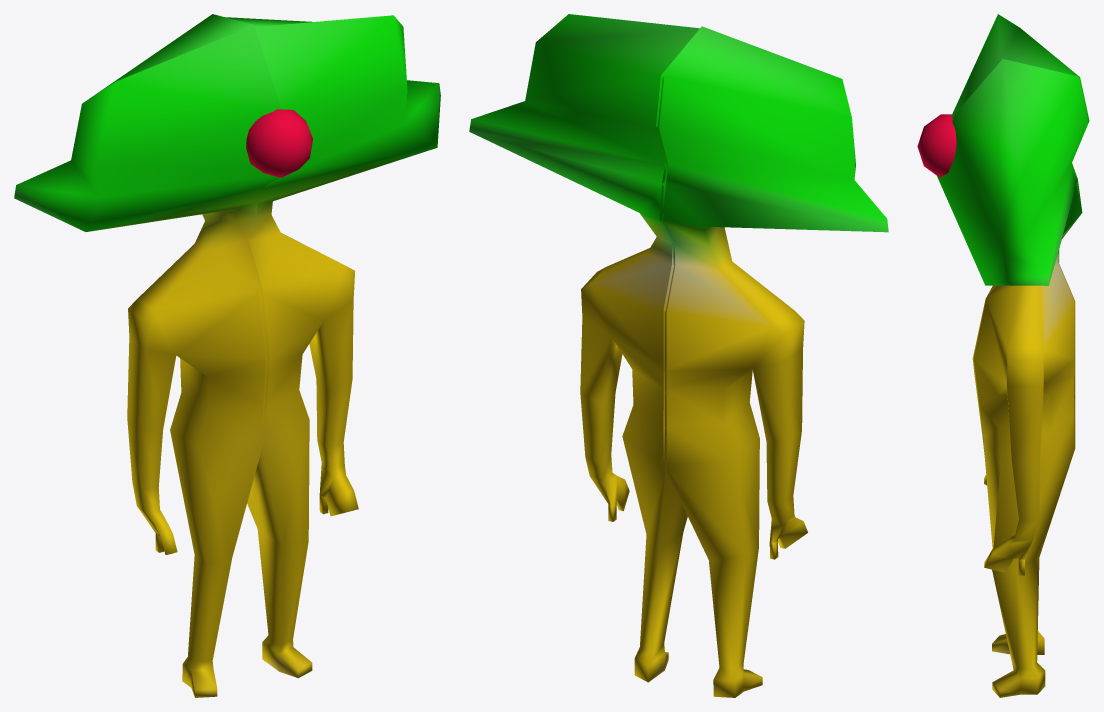
The model's file is asset.gltf.
3 renders of one model, left to right at view 1: azimuth 30°, elevation 25°; view 2: azimuth 150°, elevation 25°; view 3: azimuth 270°, elevation 25°, orthographic. The views are drawn at different scales.
Parts seen in each view (by area): view 1: Cube.001, Cube, Icosphere; view 2: Cube.001, Cube; view 3: Cube, Cube.001, Icosphere.
Part boxes in pixels (x1,y1,x2,y2): Cube.001: (14,14,281,697); Cube: (226,15,440,678); Icosphere: (246,109,312,177); Cube.001: (656,26,888,697); Cube: (469,14,699,682); Cube: (937,59,1089,697); Cube.001: (951,14,1088,654); Icosphere: (917,114,956,177).
Size of the model in its own units: 6.01 by 8.87 by 2.25.
